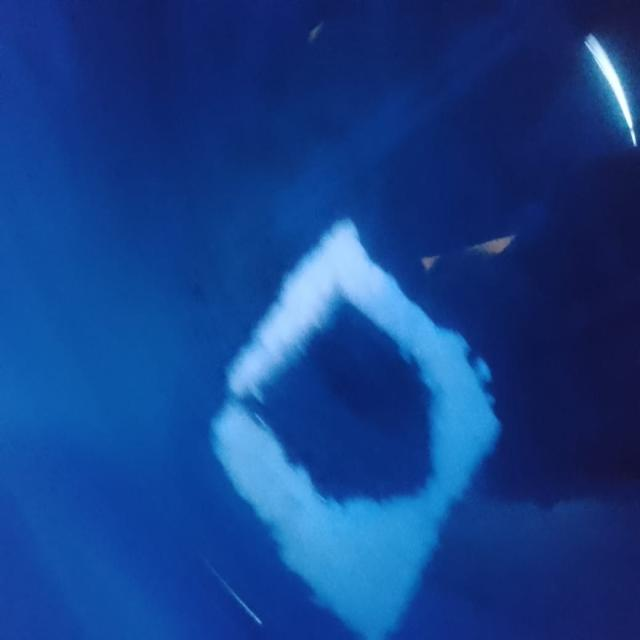litter: (202, 206, 508, 640)
